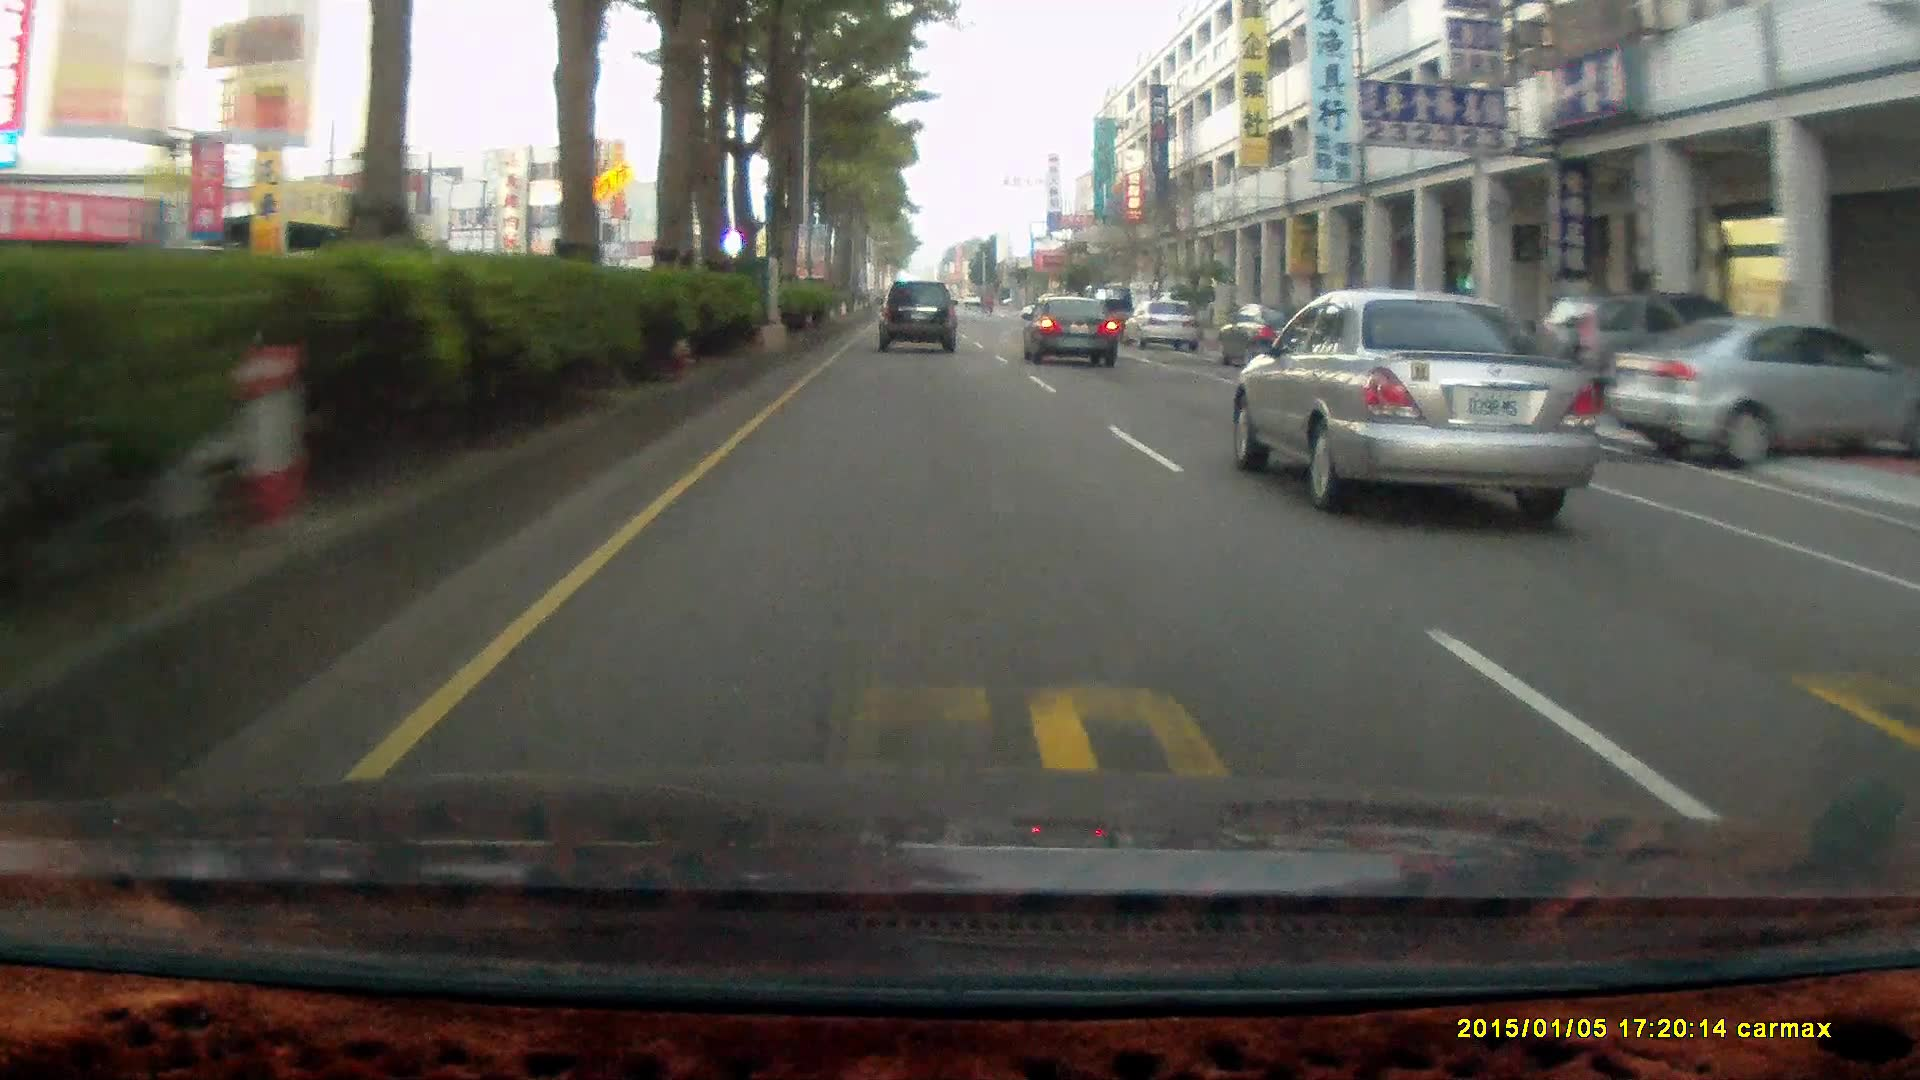vehicle: (1226, 286, 1611, 517), (1597, 318, 1920, 473), (1605, 318, 1920, 471), (1539, 291, 1760, 411), (1215, 297, 1341, 369), (1019, 293, 1117, 368), (1023, 295, 1124, 367), (877, 281, 959, 356), (876, 278, 957, 349), (1120, 297, 1201, 351), (1130, 299, 1204, 351)
